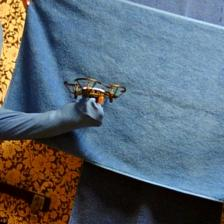drone: (62, 76, 127, 106)
